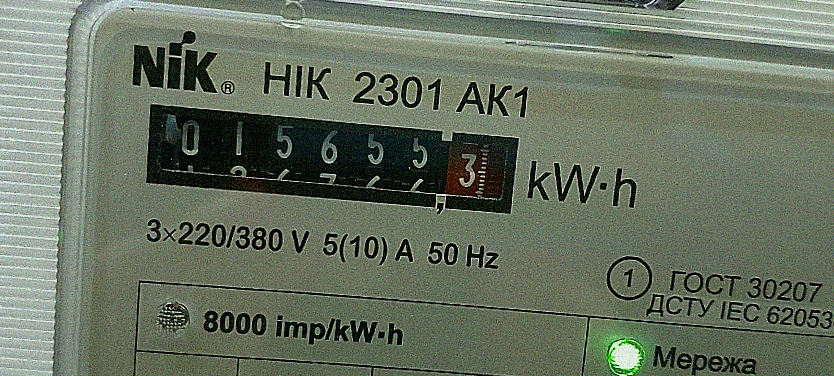0: (176, 115, 204, 158)
1: (228, 118, 249, 158)
3: (456, 151, 478, 188)
5: (270, 123, 297, 160), (363, 132, 388, 166), (409, 136, 430, 170)
6: (316, 128, 342, 165)
screen: (128, 87, 534, 230)
